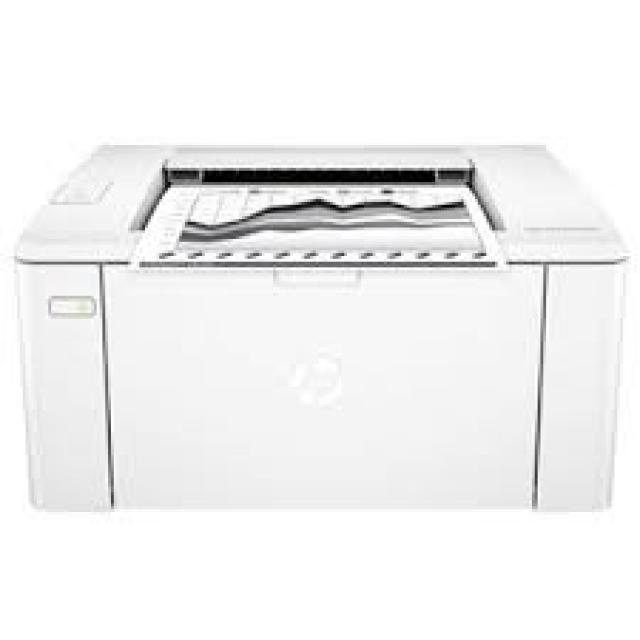printer: (11, 139, 632, 512)
